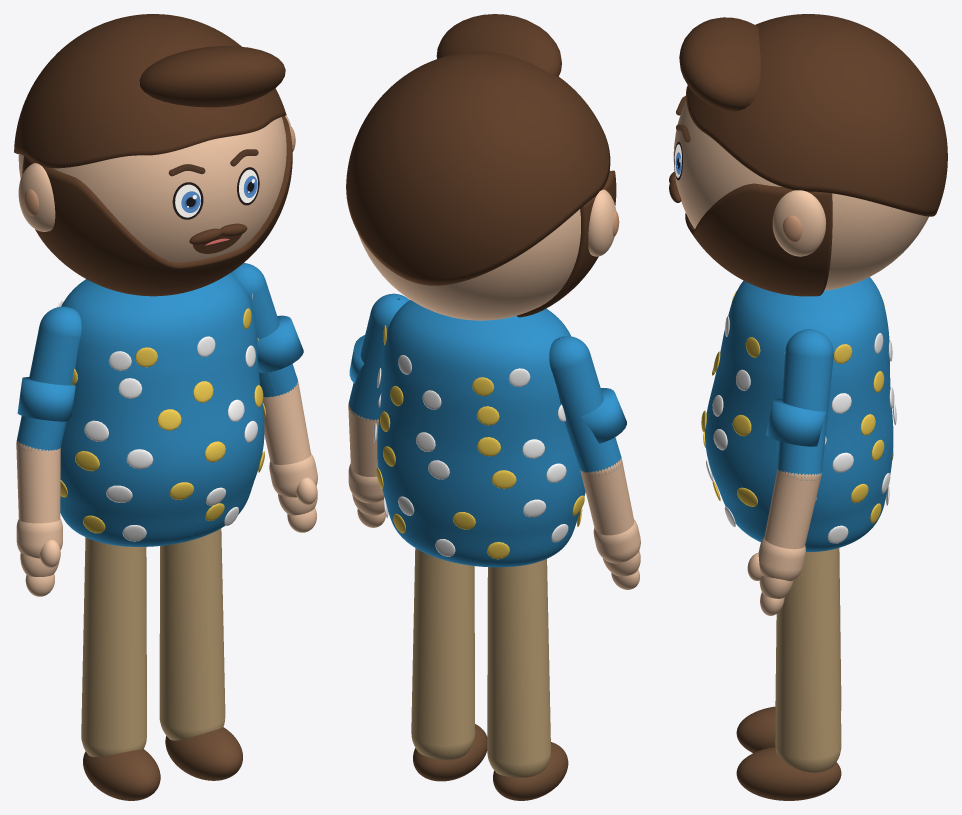
File: papa.glb
3 renders of one model, left to right at view 1: azimuth 30°, elevation 25°; view 2: azimuth 150°, elevation 25°; view 3: azimuth 270°, elevation 25°, orthographic. The views are drawn at different scales.
Visible parts, largest first — view 1: papa_romp, papa_haar, papa_hoofd, papa_been_R, papa_been_L, papa_baard, papa, papa_haar_kuif, papa_bovenarm_R, papa_onderarm_R, papa_schoen_R, papa_schoen_L (+8 smaller); view 2: papa_haar, papa_romp, papa_been_R, papa_been_L, papa_hoofd, papa, papa_bovenarm_R, papa_haar_kuif, papa_bovenarm_L, papa_onderarm_R, papa_schoen_R, papa_schoen_L (+6 smaller); view 3: papa_haar, papa_romp, papa_been_L, papa_hoofd, papa_baard, papa_haar_kuif, papa, papa_bovenarm_L, papa_schoen_L, papa_onderarm_L, papa_oor_L, papa_mouwzoom_L (+3 smaller).
Part boxes in pixels (<box>): papa_romp: <box>60,273,264,546</box>; papa_haar: <box>14,14,286,168</box>; papa_hoofd: <box>18,117,286,262</box>; papa_been_R: <box>81,537,146,757</box>; papa_been_L: <box>159,528,225,740</box>; papa_baard: <box>22,116,292,296</box>; papa: <box>57,293,265,541</box>; papa_haar_kuif: <box>139,46,285,107</box>; papa_bovenarm_R: <box>16,306,81,450</box>; papa_onderarm_R: <box>16,445,60,523</box>; papa_schoen_R: <box>83,749,160,800</box>; papa_schoen_L: <box>165,727,242,780</box>; papa_haar: <box>346,51,610,285</box>; papa_romp: <box>377,300,585,567</box>; papa_been_R: <box>487,559,550,777</box>; papa_been_L: <box>411,548,475,760</box>; papa_hoofd: <box>358,169,610,320</box>; papa: <box>373,325,584,559</box>; papa_bovenarm_R: <box>549,336,621,474</box>; papa_haar_kuif: <box>436,14,561,76</box>; papa_bovenarm_L: <box>348,293,409,420</box>; papa_onderarm_R: <box>580,461,634,535</box>; papa_schoen_R: <box>493,742,568,800</box>; papa_schoen_L: <box>413,724,487,781</box>; papa_haar: <box>686,14,947,216</box>; papa_romp: <box>705,277,893,551</box>; papa_been_L: <box>775,548,841,772</box>; papa_hoofd: <box>673,100,928,290</box>; papa_baard: <box>685,183,832,296</box>; papa_haar_kuif: <box>679,17,760,111</box>; papa: <box>701,291,896,543</box>; papa_bovenarm_L: <box>777,329,833,480</box>; papa_schoen_L: <box>736,746,841,800</box>; papa_onderarm_L: <box>764,469,820,549</box>; papa_oor_L: <box>772,190,826,256</box>; papa_mouwzoom_L: <box>766,398,826,446</box>.
Bounding box in the file's own units: 0.759 × 1.85 × 0.6207.
